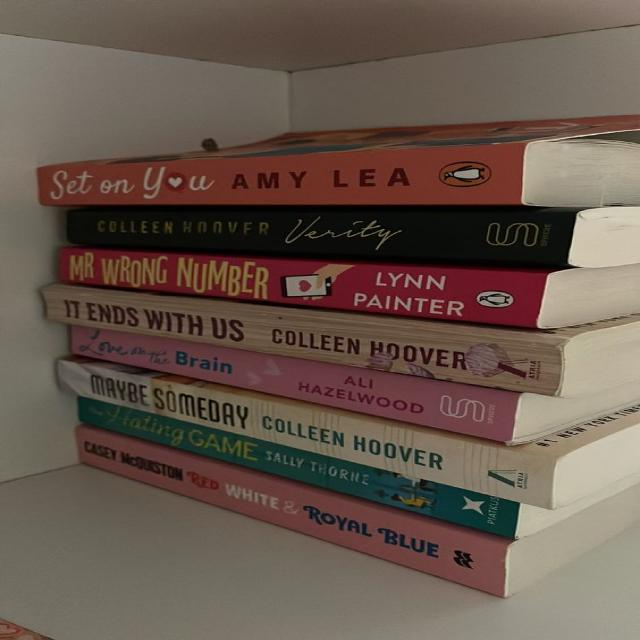book: (76, 425, 639, 598), (59, 360, 640, 508), (41, 283, 637, 397), (70, 326, 639, 444), (78, 397, 520, 537), (39, 116, 639, 207), (59, 247, 639, 328), (66, 206, 639, 269)
